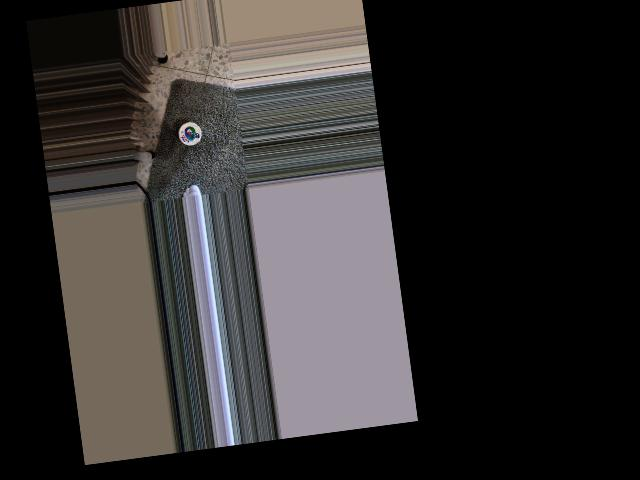cotage: (176, 120, 203, 146)
